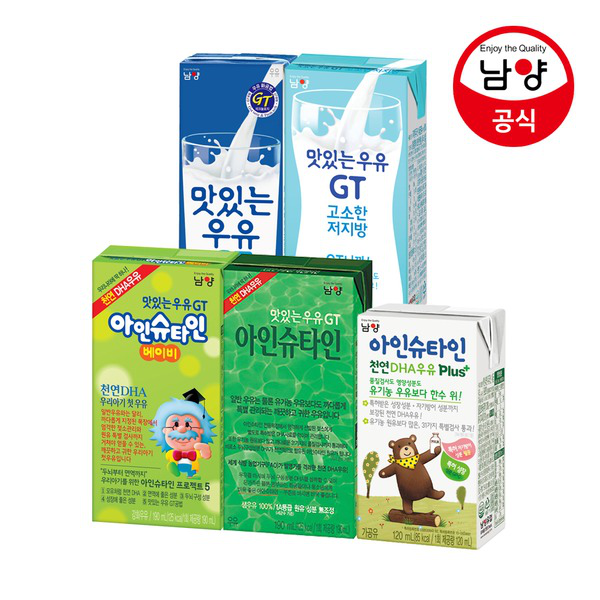milk: (88, 245, 506, 553), (177, 52, 428, 306)
